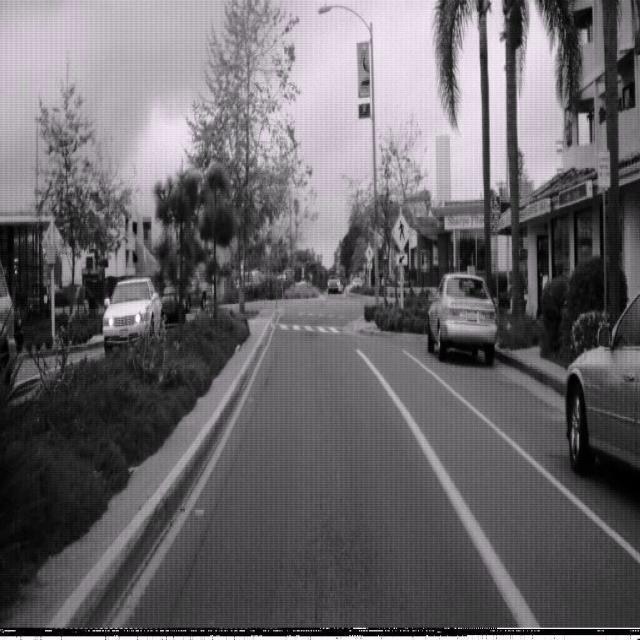pedestrianCrossing: (391, 211, 411, 252)
